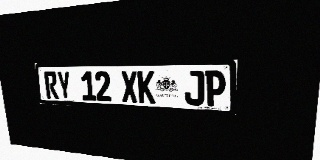1: (80, 71, 96, 101)
2: (94, 71, 111, 102)
J: (184, 70, 204, 106)
K: (137, 71, 155, 104)
P: (205, 70, 226, 107)
R: (44, 71, 59, 99)
X: (120, 71, 138, 103)
Y: (56, 71, 72, 100)
